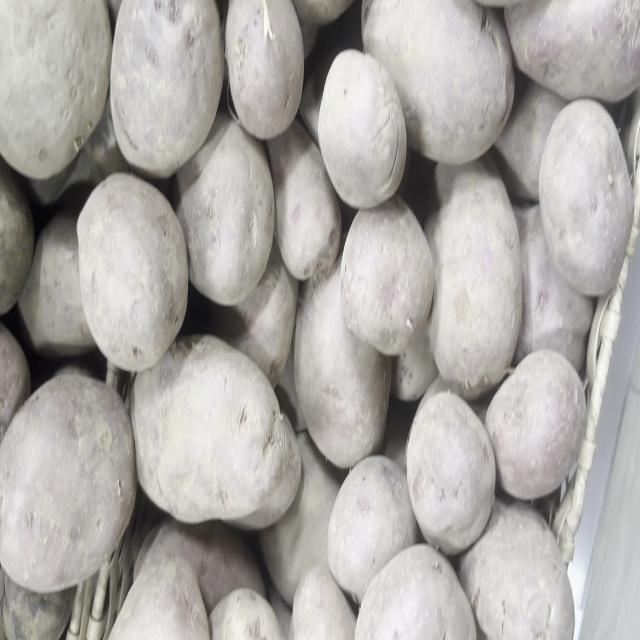potato: (130, 335, 288, 523), (0, 375, 136, 593), (361, 0, 514, 163), (424, 154, 522, 399), (78, 174, 189, 371), (294, 258, 391, 468), (110, 0, 224, 178), (0, 0, 111, 179), (176, 112, 274, 304), (539, 99, 634, 296), (459, 499, 575, 640), (485, 349, 586, 500), (340, 194, 434, 355), (406, 393, 495, 554), (505, 0, 640, 104), (318, 51, 406, 210), (328, 454, 419, 602), (514, 205, 594, 371), (214, 240, 299, 387), (268, 119, 341, 280), (355, 545, 476, 640), (19, 214, 96, 357), (225, 0, 304, 139), (110, 554, 210, 640), (289, 567, 356, 640)
